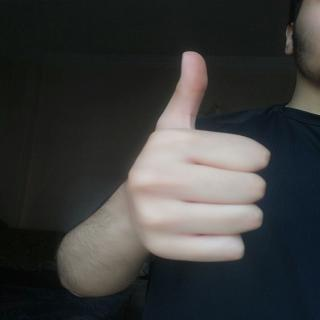ALIF: (115, 44, 286, 270)
